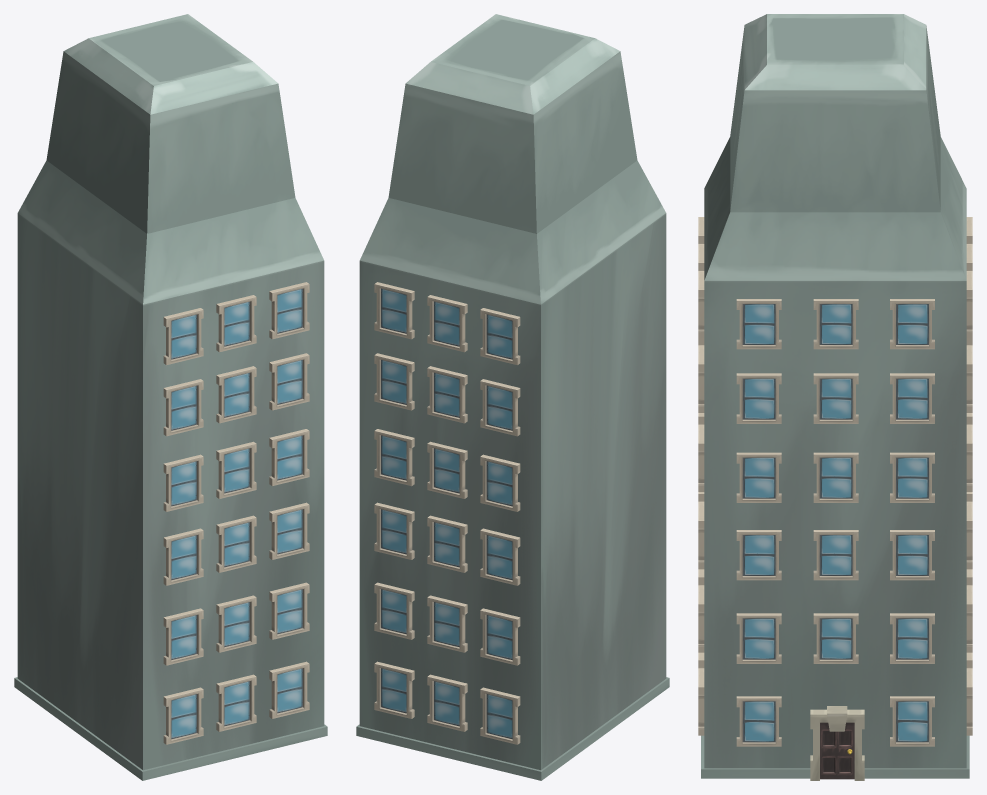
File: house_5tiles.fbx
3 renders of one model, left to right at view 1: azimuth 30°, elevation 25°; view 2: azimuth 150°, elevation 25°; view 3: azimuth 270°, elevation 25°, orthographic. The views are drawn at different scales.
Parts seen in each view (by area): view 1: Box017, Box519, Box521, Box524, Box526, Box518, Box520, Box523, Box525, Box527, Box522, Box528 (+7 smaller); view 2: Box017, Box545, Box549, Box553, Box544, Box547, Box548, Box550, Box551, Box552, Box542, Box543 (+7 smaller); view 3: Box017, Box500, Box507, Box508, Box510, Box511, Box514, Box515, Box517, Box509, Box512, Box513 (+7 smaller).
Boxes of the visible parts, x1=… form: Box017: x1=14, y1=14, x2=327, y2=780; Box519: x1=269, y1=582, x2=309, y2=639; Box521: x1=269, y1=429, x2=309, y2=486; Box524: x1=216, y1=674, x2=256, y2=731; Box526: x1=216, y1=515, x2=256, y2=572; Box518: x1=269, y1=661, x2=309, y2=718; Box520: x1=269, y1=502, x2=309, y2=559; Box523: x1=269, y1=282, x2=309, y2=339; Box525: x1=216, y1=595, x2=256, y2=652; Box527: x1=216, y1=441, x2=256, y2=498; Box522: x1=269, y1=353, x2=309, y2=410; Box528: x1=216, y1=366, x2=256, y2=423; Box017: x1=356, y1=14, x2=669, y2=780; Box545: x1=374, y1=429, x2=414, y2=486; Box549: x1=427, y1=515, x2=467, y2=572; Box553: x1=427, y1=674, x2=467, y2=731; Box544: x1=427, y1=441, x2=467, y2=498; Box547: x1=374, y1=282, x2=414, y2=339; Box548: x1=374, y1=502, x2=414, y2=559; Box550: x1=427, y1=595, x2=467, y2=652; Box551: x1=374, y1=582, x2=414, y2=639; Box552: x1=374, y1=661, x2=414, y2=718; Box542: x1=427, y1=295, x2=467, y2=352; Box543: x1=427, y1=366, x2=467, y2=423; Box017: x1=701, y1=14, x2=969, y2=778; Box500: x1=810, y1=706, x2=864, y2=780; Box507: x1=736, y1=696, x2=781, y2=746; Box508: x1=736, y1=613, x2=781, y2=663; Box510: x1=736, y1=452, x2=781, y2=502; Box511: x1=736, y1=373, x2=781, y2=423; Box514: x1=813, y1=373, x2=858, y2=423; Box515: x1=813, y1=452, x2=858, y2=502; Box517: x1=813, y1=613, x2=858, y2=663; Box509: x1=736, y1=530, x2=781, y2=580; Box512: x1=736, y1=299, x2=781, y2=349; Box513: x1=813, y1=299, x2=858, y2=349.
Size of the model in its own units: 1277 by 4066 by 1461.
